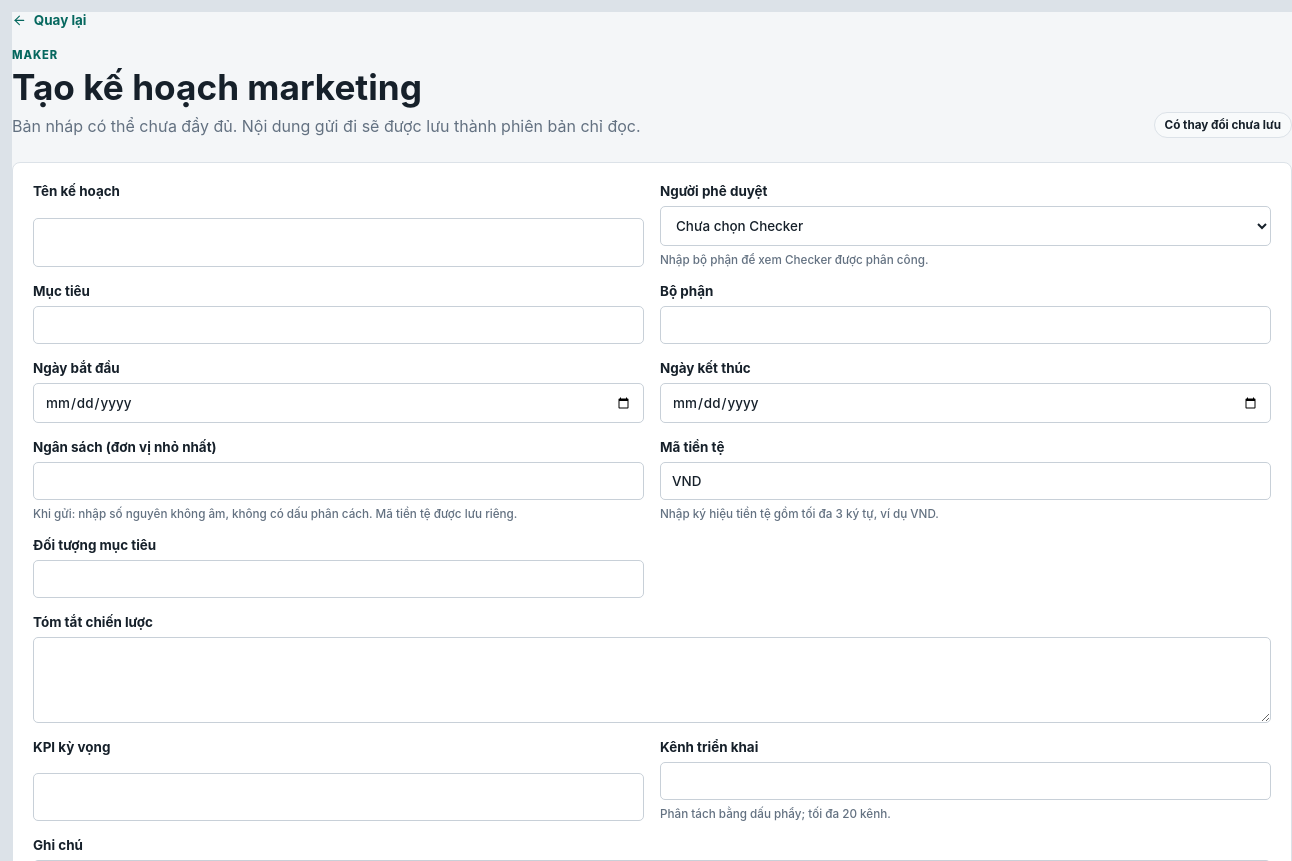
Test case: reloads permitted Checker options when the department changes and replaces the old default
The width and height of the screenshot is (1292, 861).
Type "Marketing" into the field labelled "Bộ phận" at (966, 326), box [660,306,1271,344]
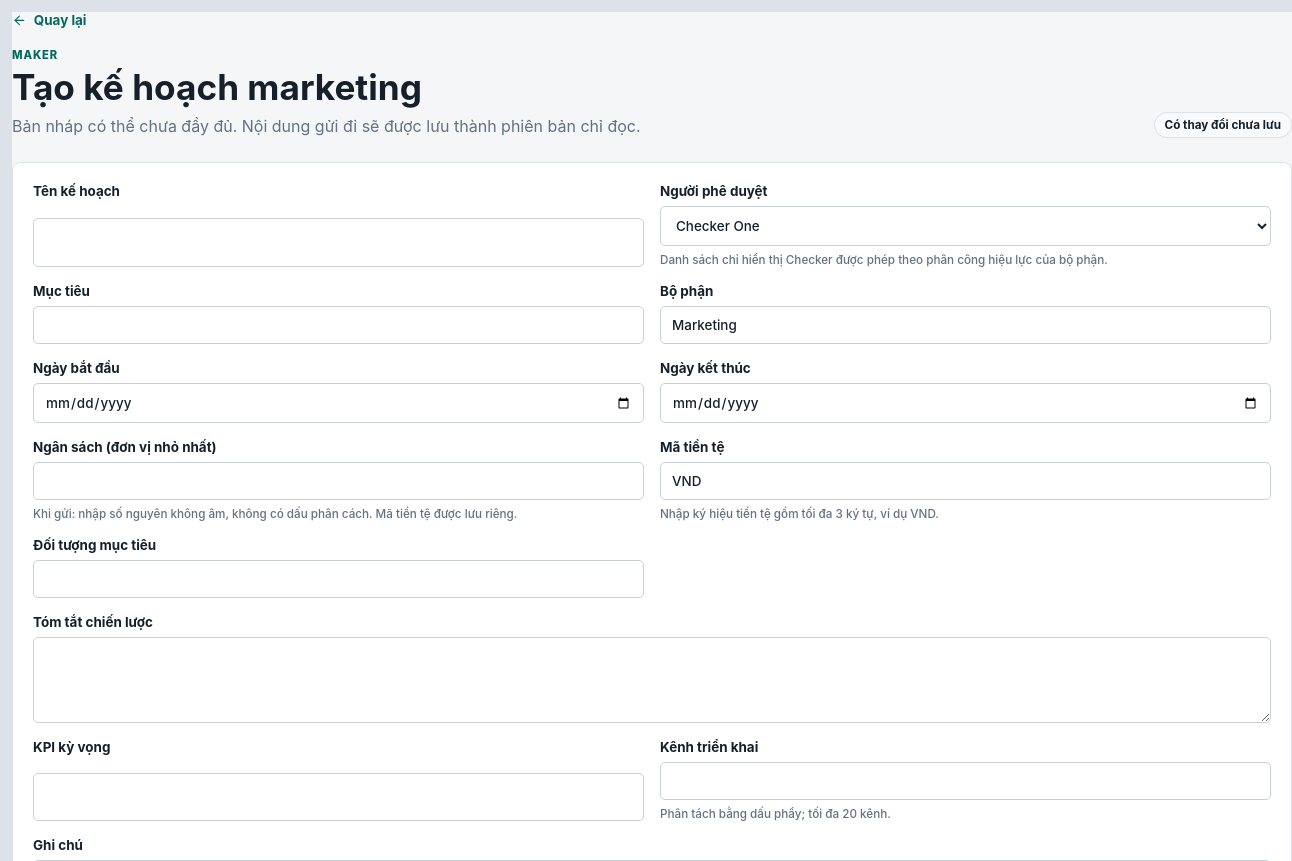
expect the dropdown labelled "Người phê duyệt" shows "Checker One": met, box [660,206,1271,246]
Replace the text in the field labelled "Bộ phận" with "Sales" at (966, 326), box [660,306,1271,344]
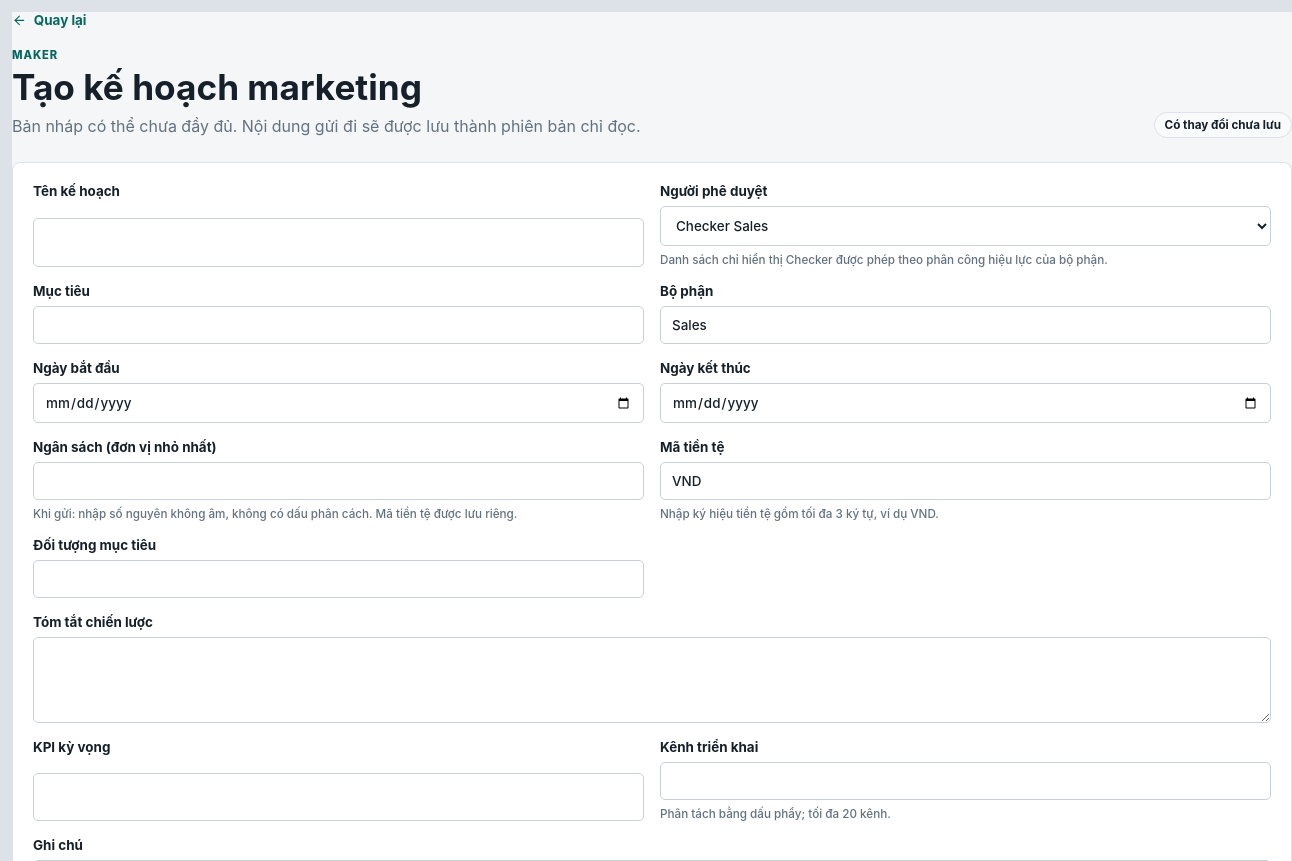
expect the option "Checker One" is not shown: met
expect the dropdown labelled "Người phê duyệt" shows "Checker Sales": met, box [660,206,1271,246]
